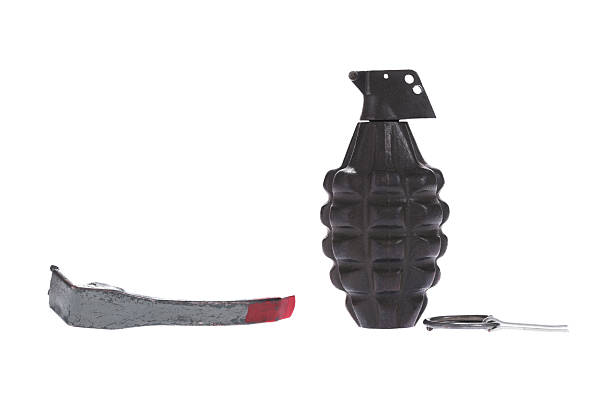e1: (322, 67, 448, 325)
